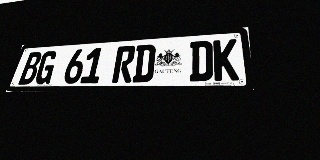1: (80, 47, 105, 83)
6: (62, 49, 87, 84)
B: (18, 52, 43, 85)
D: (189, 40, 213, 81), (132, 44, 156, 82)
G: (33, 51, 59, 84)
K: (213, 39, 239, 81)
R: (112, 45, 136, 83)
